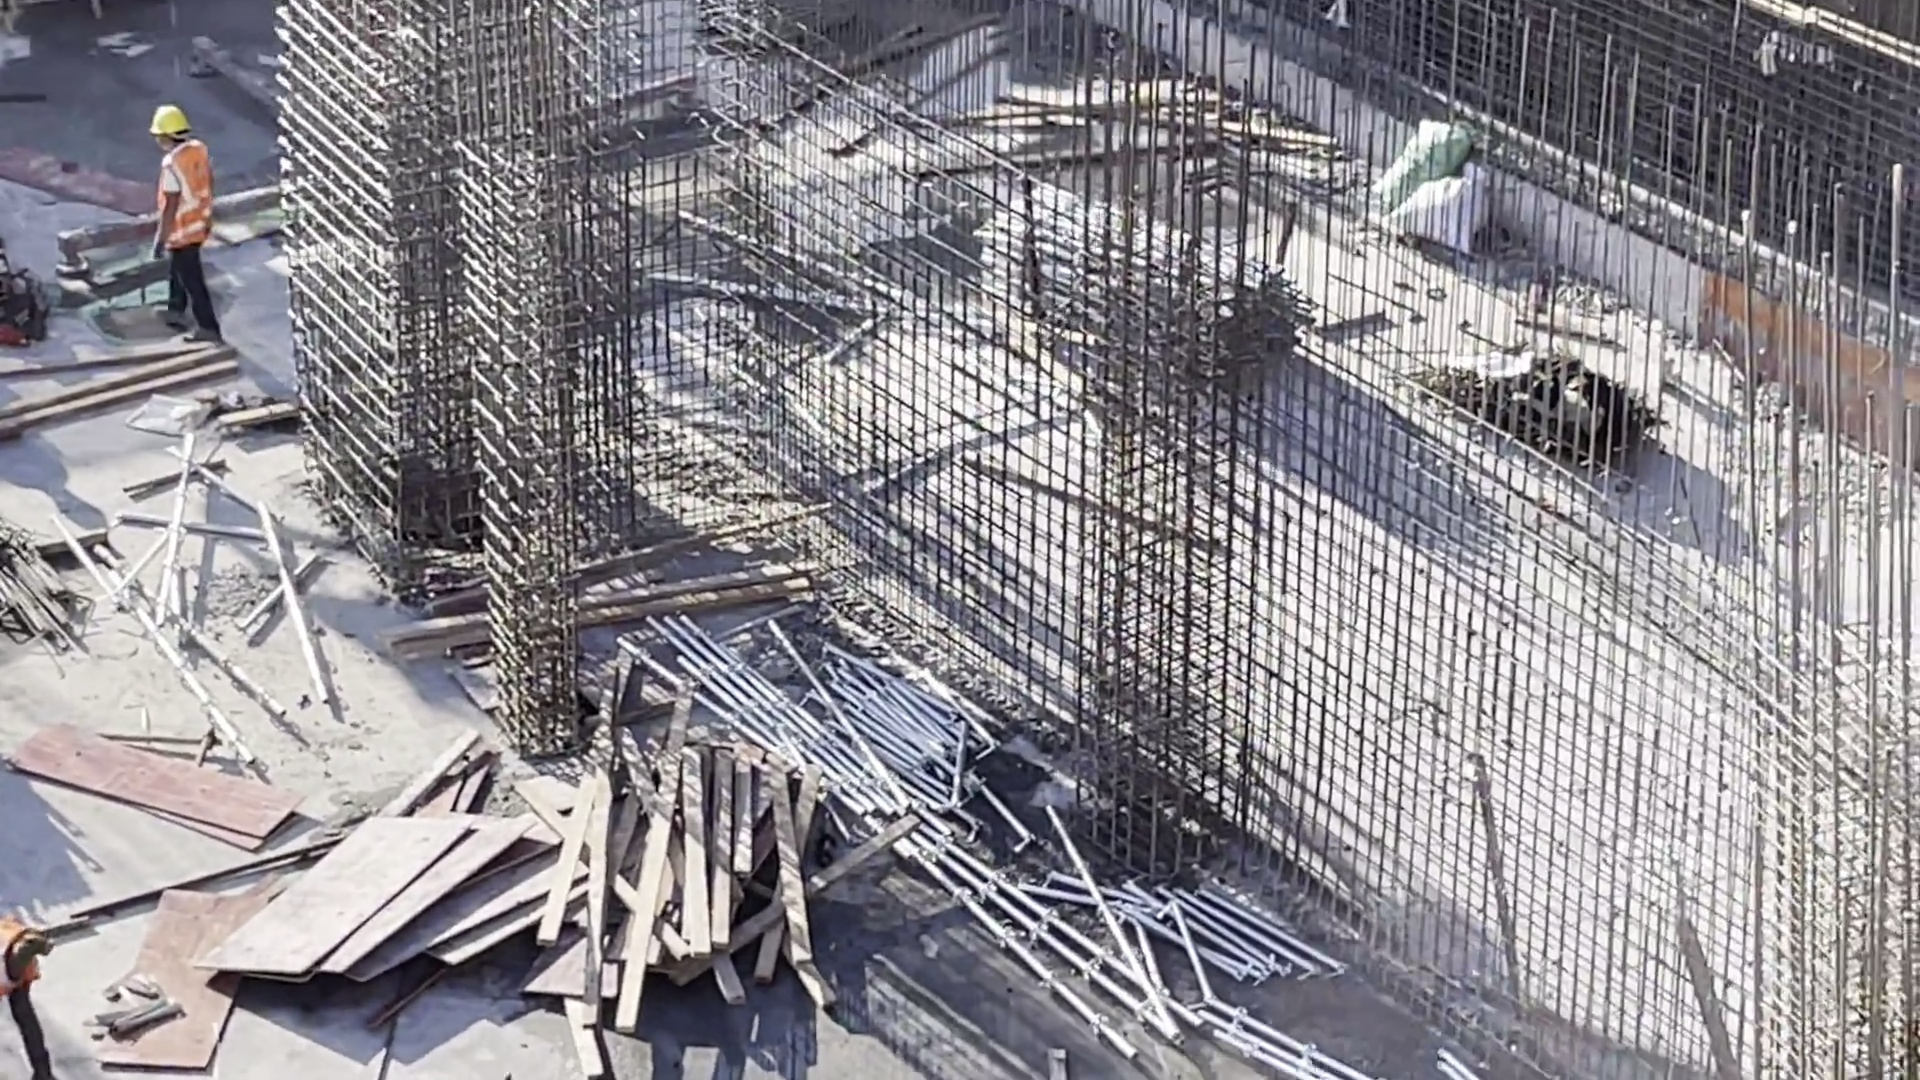board: (320, 817, 576, 985)
helmet: (148, 100, 201, 145)
person: (134, 102, 247, 349), (1, 921, 69, 1080)
rebar: (1, 503, 71, 653)
scaffold: (976, 177, 1316, 376), (760, 650, 1027, 815)
vest: (151, 157, 213, 268), (1, 929, 48, 999)
wood: (553, 764, 837, 985)
